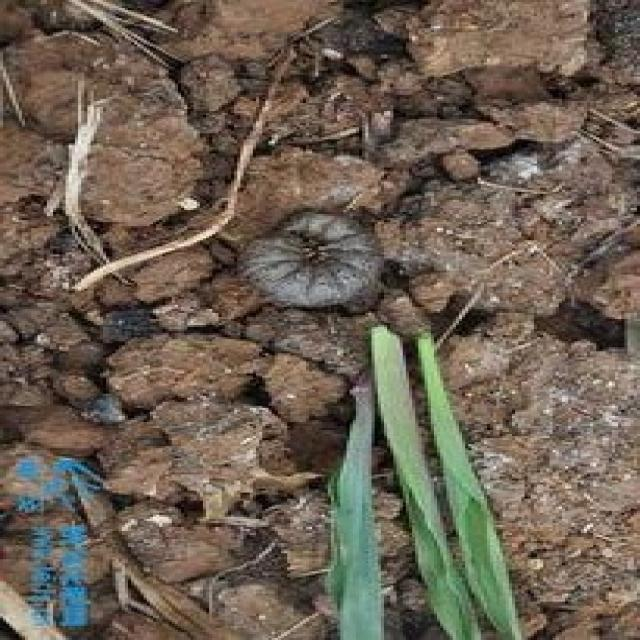black cutworm: (248, 206, 385, 313)
